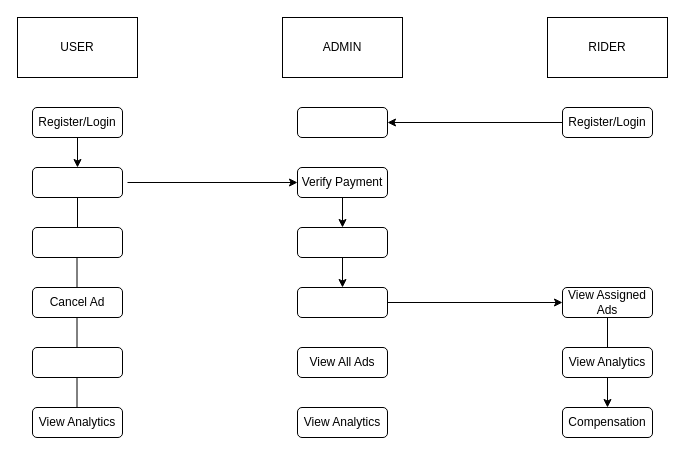
Some shapes in this 685 by 455 pixel diagram are drawn without their labels. Here are the shapes that lost their labels. From the top down, the centre of each, then its label:
pixel 342 122: Approved Rider
pixel 77 182: Create Ad
pixel 77 242: Edit Ad
pixel 342 242: Approved Ads
pixel 342 302: Assign Rider
pixel 77 362: View Ads
